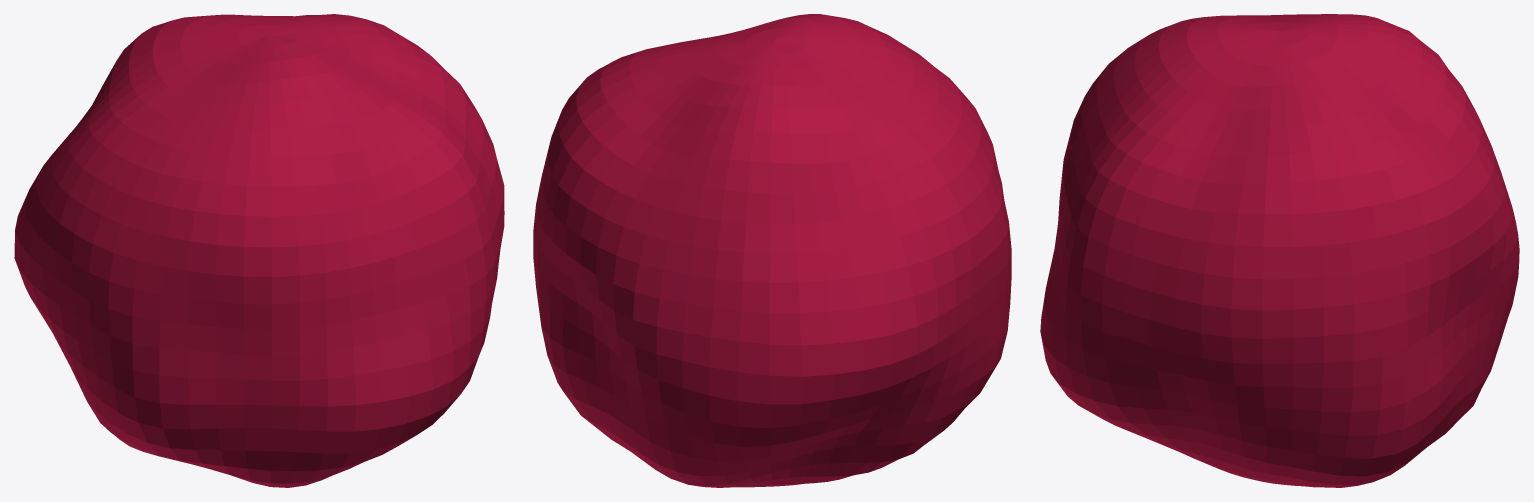
The model's file is nucleo1.FBX.
The picture shows the model from 3 angles, left to right: view 1: azimuth 30°, elevation 25°; view 2: azimuth 150°, elevation 25°; view 3: azimuth 270°, elevation 25°; orthographic projection. The views are drawn at different scales.
Parts seen in each view (by area): view 1: Sphere002; view 2: Sphere002; view 3: Sphere002.
Boxes of the visible parts, x1=… form: Sphere002: x1=14, y1=14, x2=504, y2=487; Sphere002: x1=533, y1=14, x2=1011, y2=487; Sphere002: x1=1040, y1=14, x2=1519, y2=487.
Bounding box in the file's own units: 2019 × 1973 × 1995.
